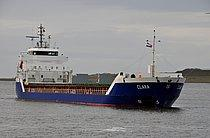Ship: (10, 20, 190, 114)
